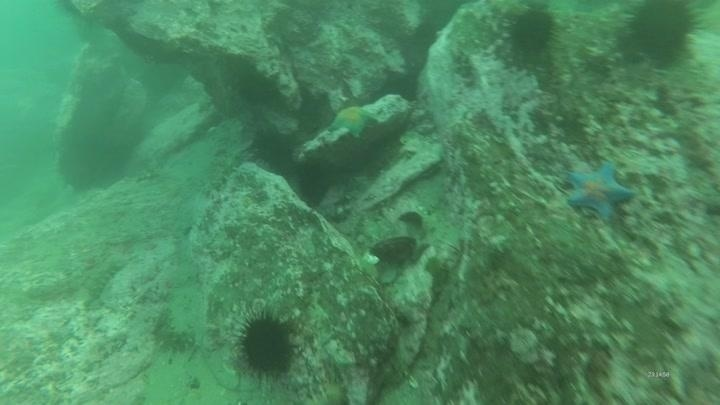echinus: (622, 1, 703, 67), (232, 309, 300, 382), (504, 5, 560, 58), (248, 125, 295, 172)
holothurian: (150, 303, 196, 356), (81, 256, 127, 307)
starfish: (563, 160, 636, 223), (326, 102, 378, 139)
